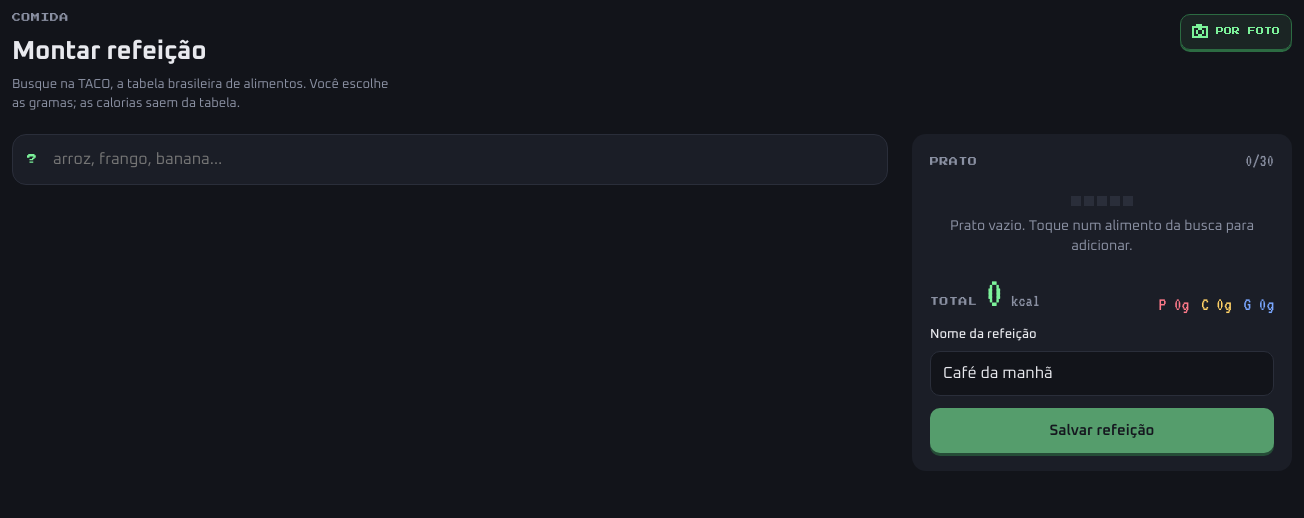
it: Comida › alimento que sumiu da base mostra mensagem própria
Type "arroz" into the search field named "buscar alimento" at (450, 160), box [12,134,888,185]
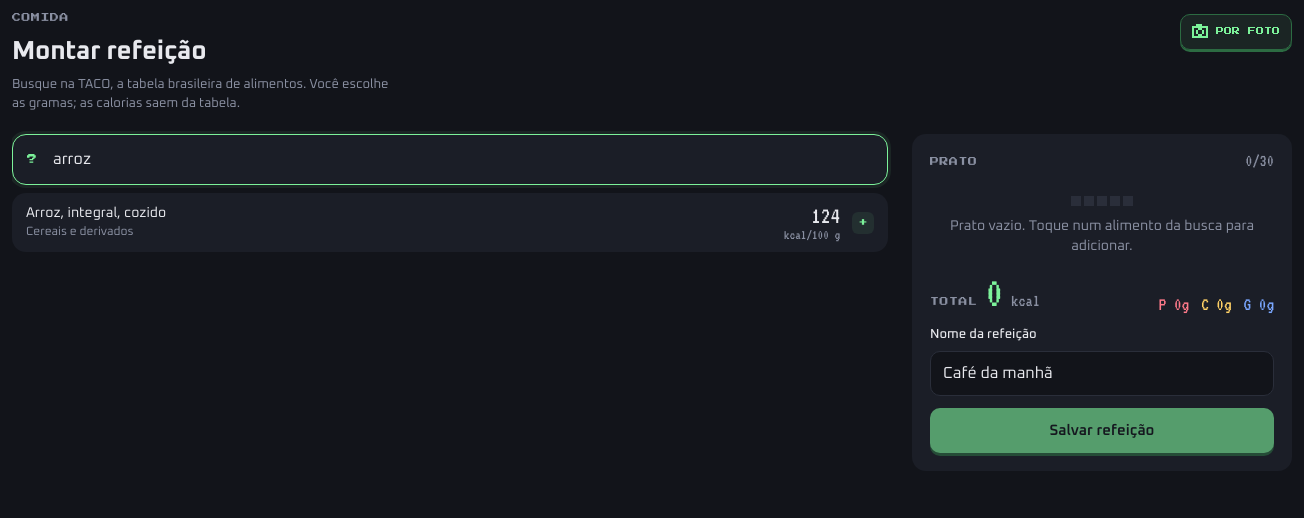
Click the button "Arroz, integral, cozido Cereais e derivados 124 kcal/100 g +" at (96, 213), box [12,193,888,252]
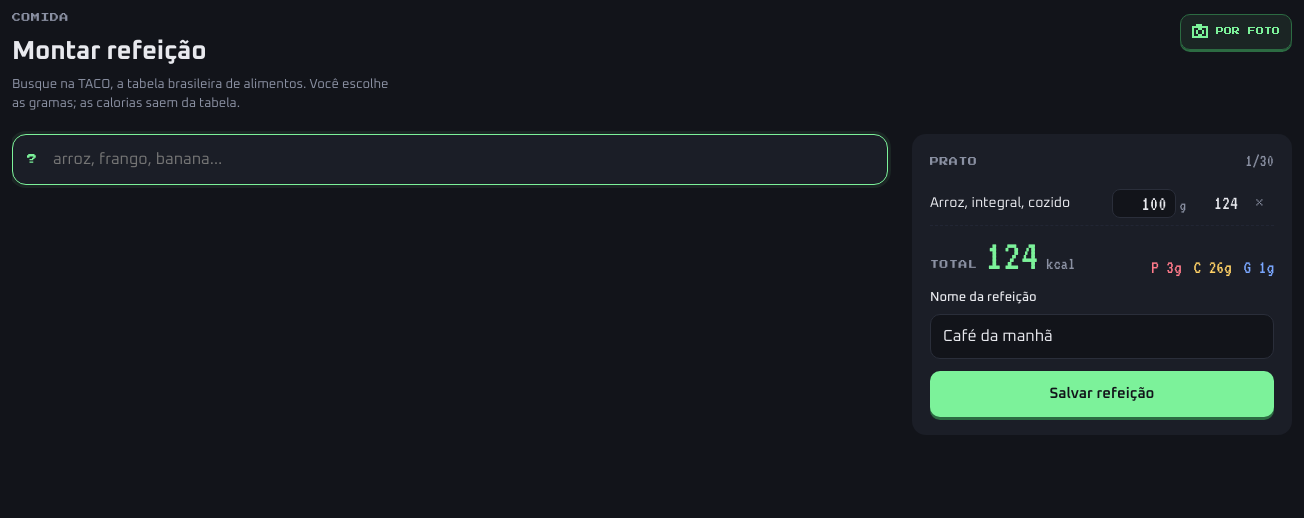
Click the button "Salvar refeição" at (1102, 394), box [930,371,1274,417]
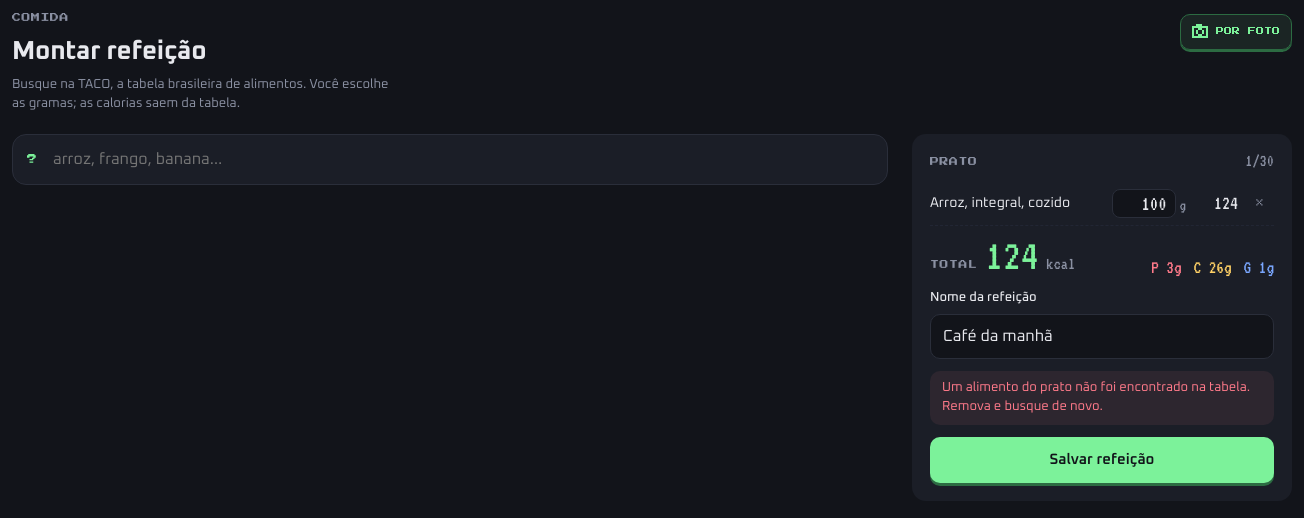
Result: the text "Um alimento do prato não foi encontrado na tabela. Remova e busque de novo." is shown at [930,371,1274,425]
